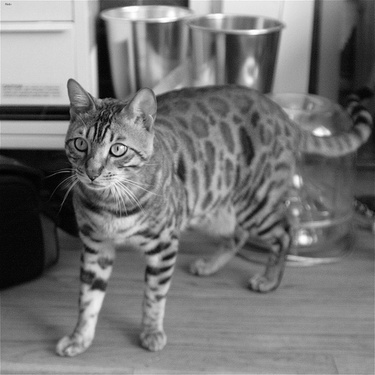cat: (60, 80, 370, 359)
